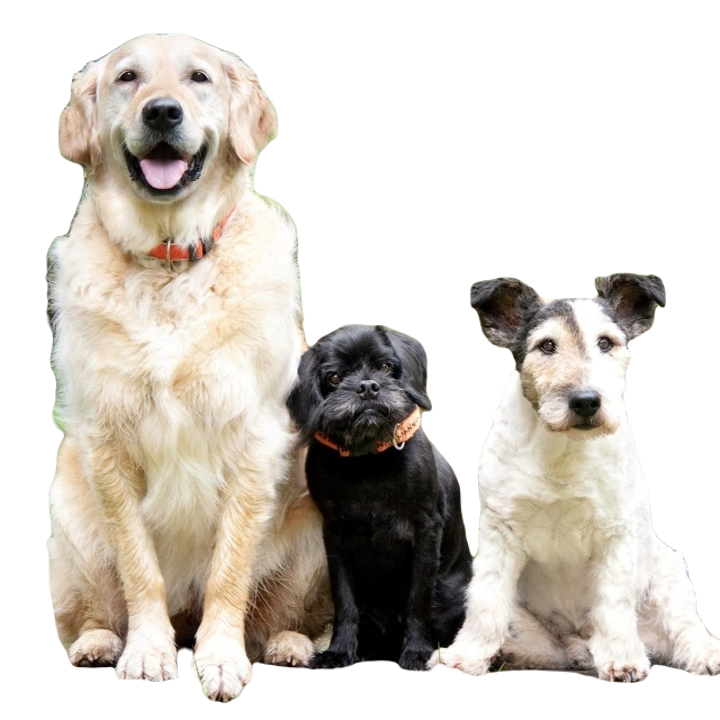Dog: (39, 29, 331, 702), (466, 273, 719, 681)
